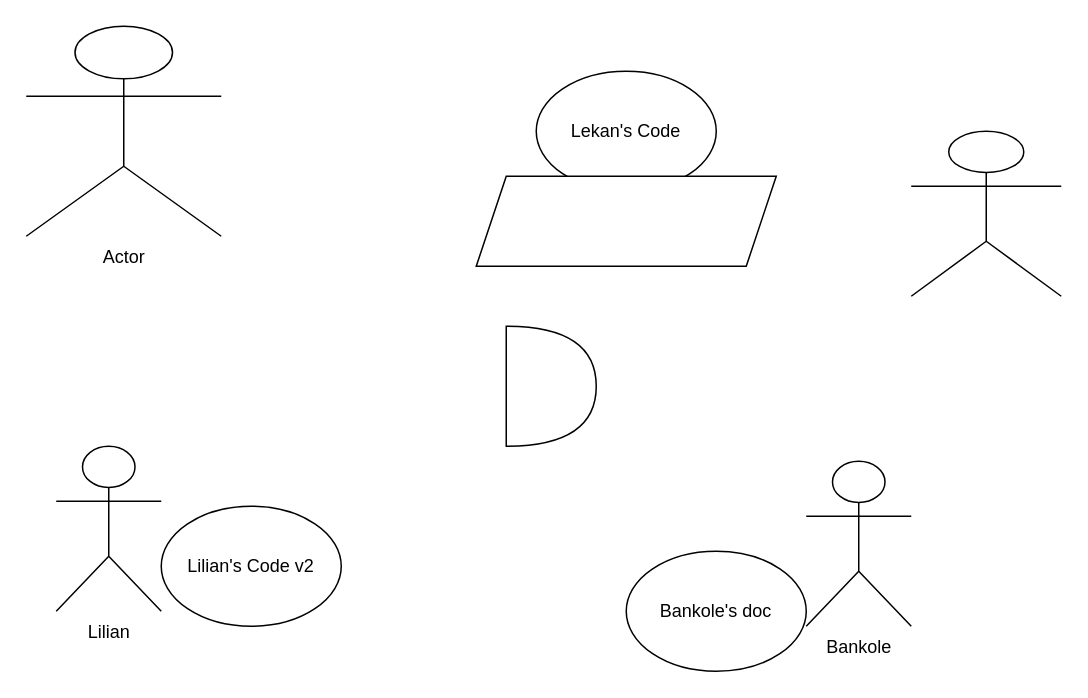
The diagram is 1088 pixels wide and 698 high, and some of its shapes have lost their labels. The shapes that lost their labels are listed below. From the top down, each one's box as (x1, y1, x2, y2) in pixels, then its label:
(475, 175, 776, 266): Lekan's computer [Git]
(910, 130, 1061, 296): Temi
(505, 325, 596, 446): Github
